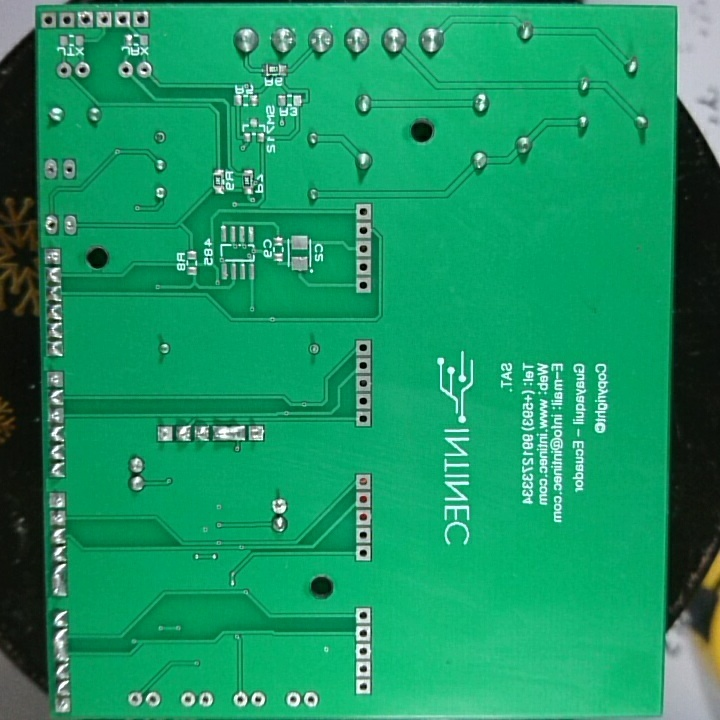F: (72, 57, 93, 83), (154, 423, 176, 446), (269, 495, 292, 516), (247, 423, 268, 446), (61, 155, 77, 184), (353, 200, 374, 222), (304, 339, 326, 360), (353, 638, 373, 661), (46, 489, 69, 509), (53, 695, 77, 714), (42, 212, 61, 236), (41, 156, 59, 181), (54, 57, 72, 82), (75, 9, 94, 32), (133, 58, 152, 81), (47, 406, 68, 426), (132, 9, 153, 29), (354, 238, 374, 258), (353, 275, 373, 295), (354, 337, 374, 357), (353, 605, 373, 625), (44, 246, 64, 266), (94, 11, 114, 31), (46, 370, 67, 389), (116, 58, 134, 80), (198, 688, 214, 712), (354, 255, 373, 275), (354, 372, 373, 392), (353, 390, 373, 409), (354, 506, 373, 526), (355, 543, 374, 563), (126, 689, 145, 709), (353, 472, 374, 490), (62, 212, 77, 237), (40, 10, 57, 32), (303, 688, 319, 711), (353, 677, 373, 695), (283, 689, 301, 709), (353, 409, 374, 426), (50, 507, 71, 524), (145, 690, 161, 712), (354, 355, 373, 373), (355, 489, 373, 508), (151, 127, 169, 146), (58, 10, 75, 30), (355, 623, 373, 641), (113, 11, 131, 29), (354, 221, 373, 238), (354, 661, 373, 678), (249, 690, 266, 709), (232, 688, 247, 709), (355, 526, 372, 544), (179, 689, 196, 706)
P: (210, 422, 246, 446), (51, 561, 72, 599), (51, 629, 73, 662)
